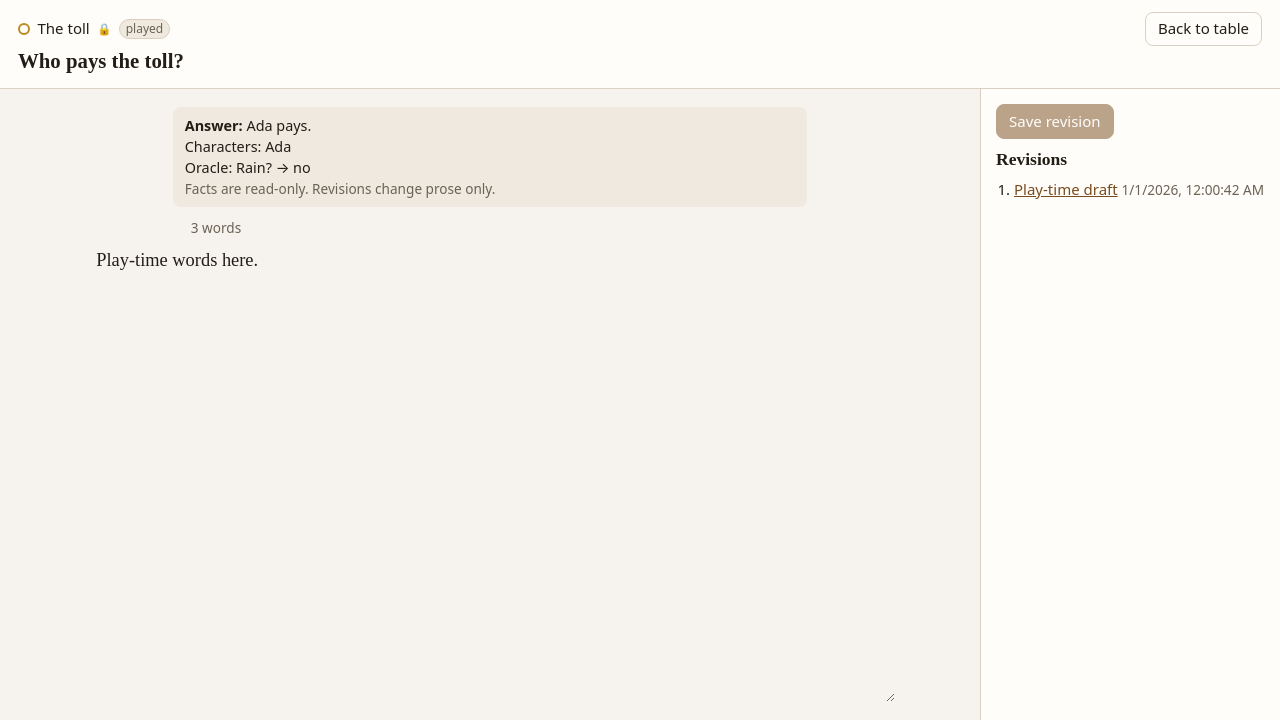
Test: Scene editor: revising › shows locked facts read-only and saves prose revisions, keeping the play-time draft
Expected: the element named "Locked facts" shows "Answer: Ada pays.", x1=173 y1=107 x2=807 y2=207
Expected: the element named "Locked facts" shows "Characters: Ada", x1=173 y1=107 x2=807 y2=207
Replace the text in the text box named "Scene prose" with "Revised words.": [490, 470] box x1=85 y1=238 x2=895 y2=702
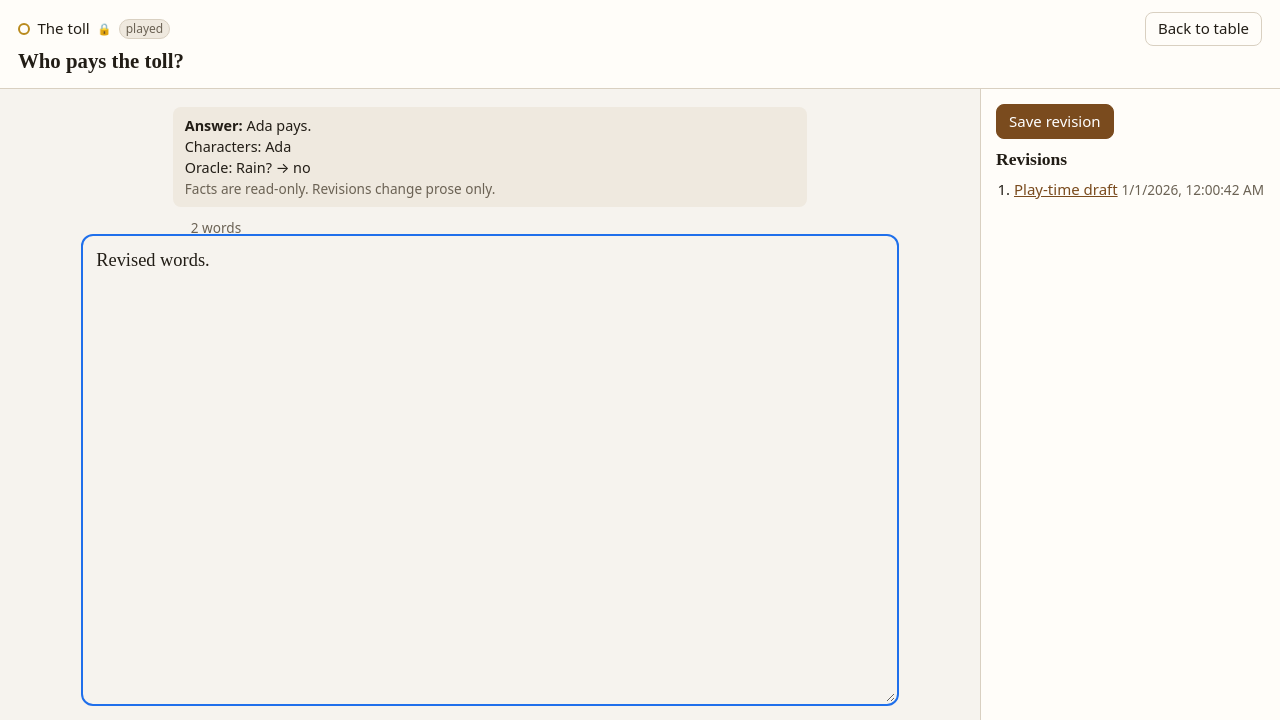
Now the text "2 words" is shown, box x1=191 y1=218 x2=241 y2=238
Click the button "Save revision": [1055, 122] box x1=996 y1=104 x2=1114 y2=139
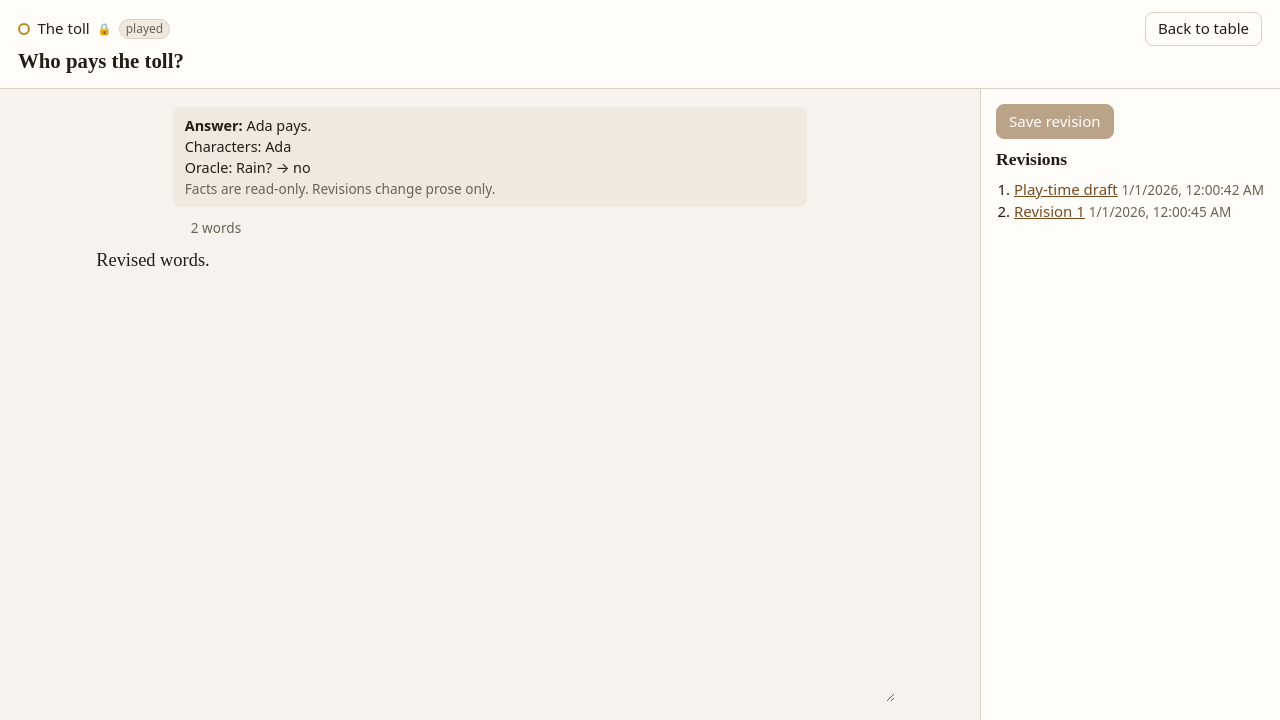
Click the button "Play-time draft": [1066, 190] box x1=1014 y1=179 x2=1118 y2=201
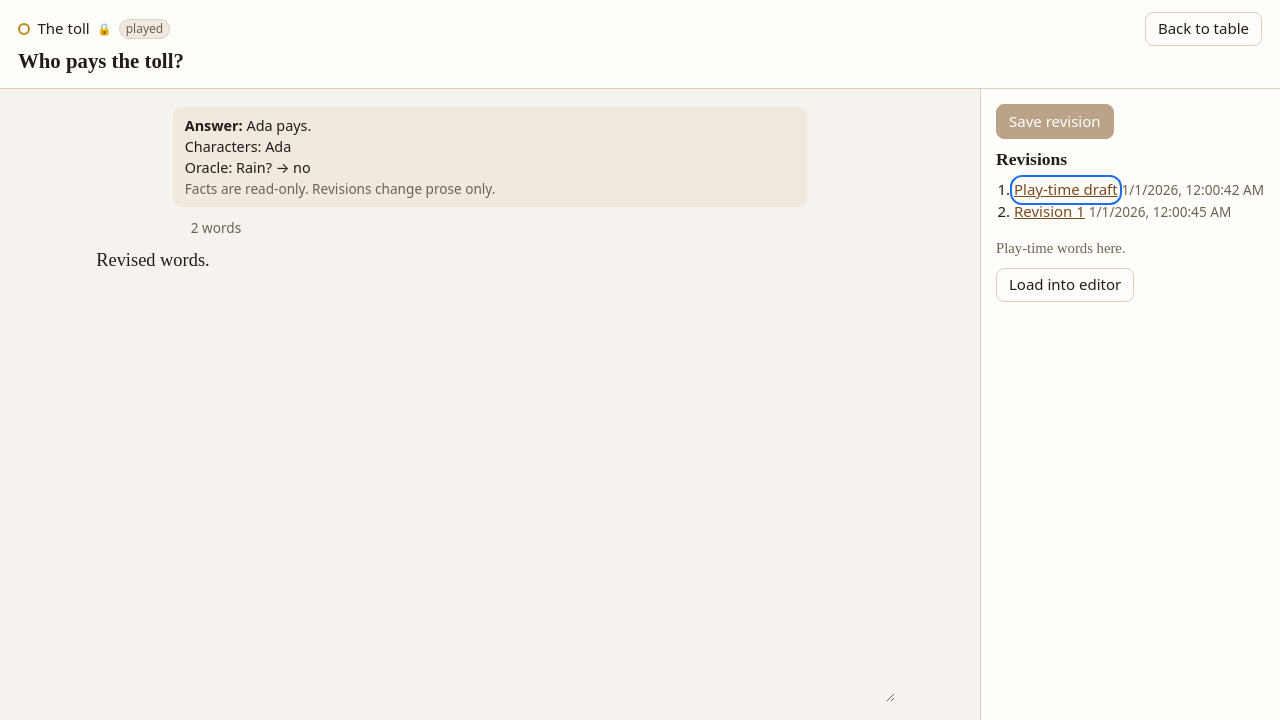
Click the button "Load into editor": [1065, 285] box x1=996 y1=268 x2=1134 y2=302
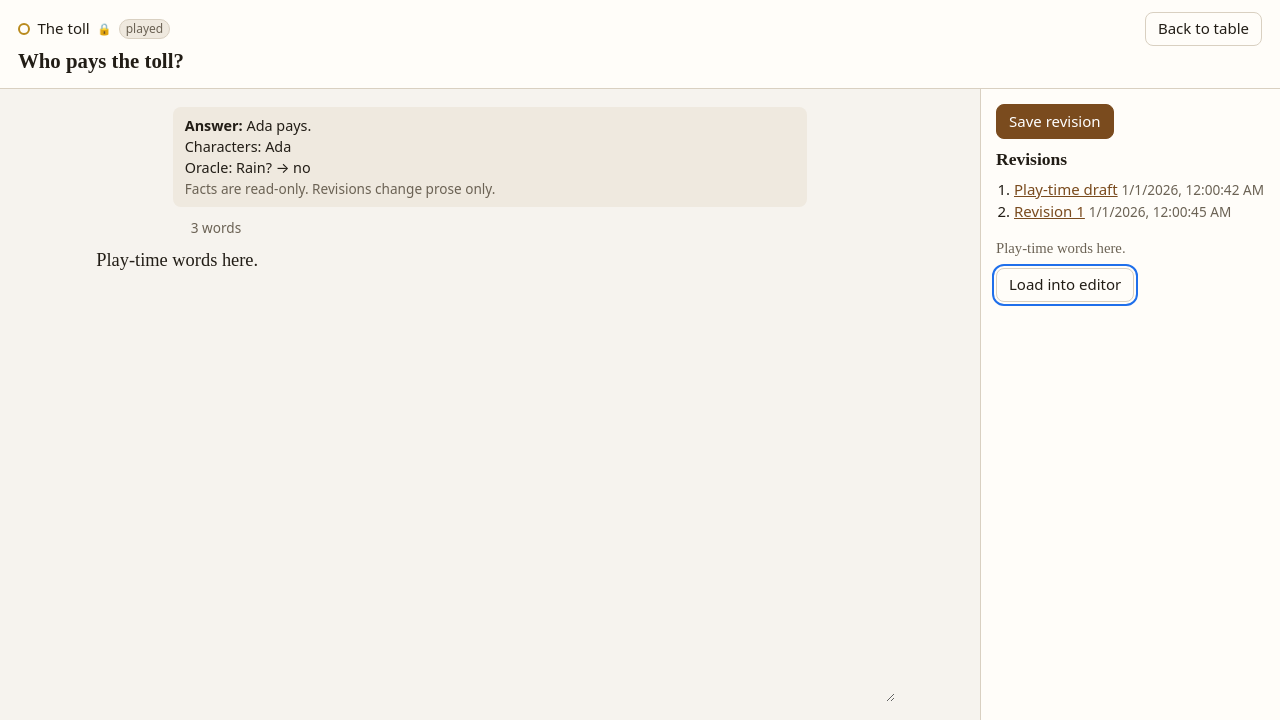
Now the text box named "Scene prose" holds "Play-time words here.", box x1=85 y1=238 x2=895 y2=702
